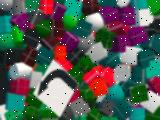Left: (33, 59, 79, 117)
